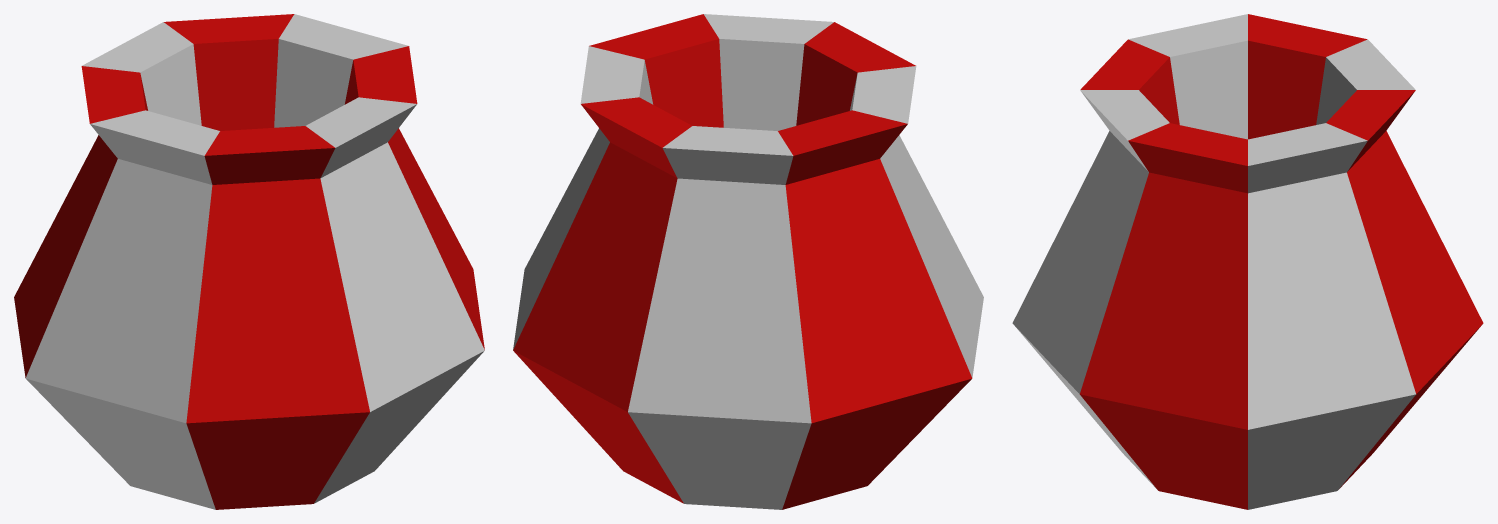
Rendered from ruukku.obj.
3 views of the same model, side by side, from view 1: azimuth 30°, elevation 25°; view 2: azimuth 150°, elevation 25°; view 3: azimuth 270°, elevation 25° (orthographic). The views are drawn at different scales.
Visible parts, largest first — view 1: Ruukku_Cube; view 2: Ruukku_Cube; view 3: Ruukku_Cube.
Part boxes in pixels (<box>): Ruukku_Cube: <box>14,14,484,509</box>; Ruukku_Cube: <box>513,14,983,509</box>; Ruukku_Cube: <box>1012,14,1483,509</box>.
Size of the model in its own units: 3 by 2.38 by 2.8.
